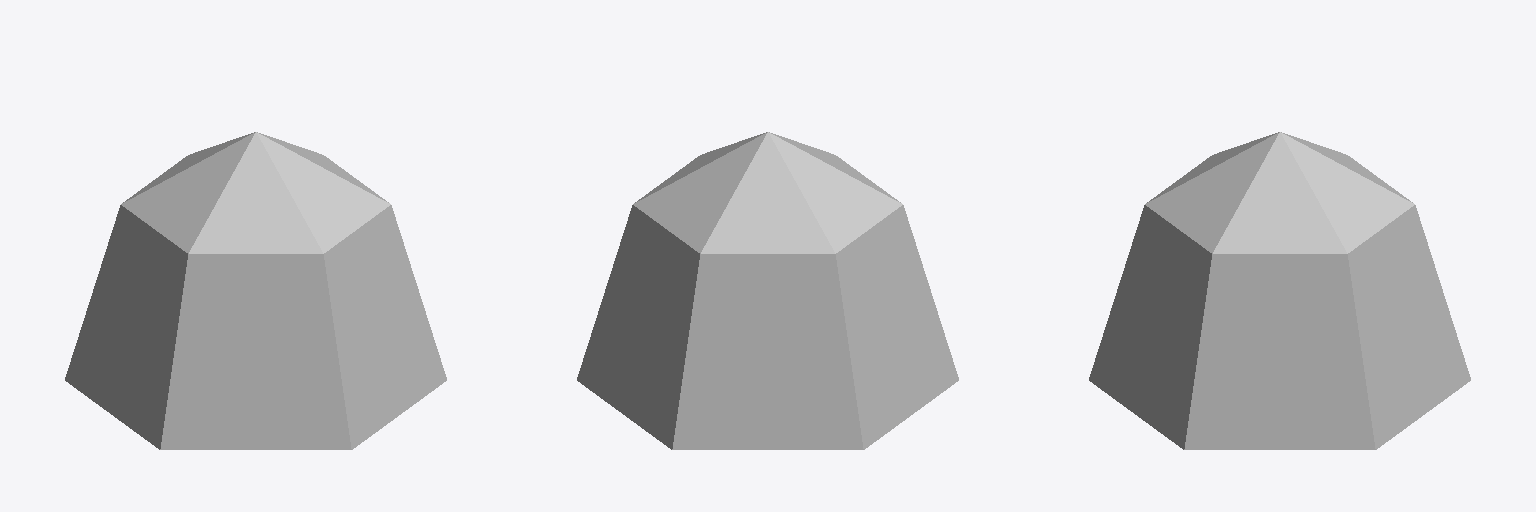
File: hitBoxTriggerTeleporteur.obj
3 views of the same model, side by side, from view 1: azimuth 30°, elevation 25°; view 2: azimuth 150°, elevation 25°; view 3: azimuth 270°, elevation 25° (orthographic).
Visible parts, largest first — view 1: hitBoxTriggerTeleporteur; view 2: hitBoxTriggerTeleporteur; view 3: hitBoxTriggerTeleporteur.
Boxes of the visible parts, <box> form: hitBoxTriggerTeleporteur: <box>65,132,446,449</box>; hitBoxTriggerTeleporteur: <box>577,132,958,449</box>; hitBoxTriggerTeleporteur: <box>1089,132,1470,449</box>.
Bounding box in the file's own units: 0.5667 × 0.4687 × 0.6544.